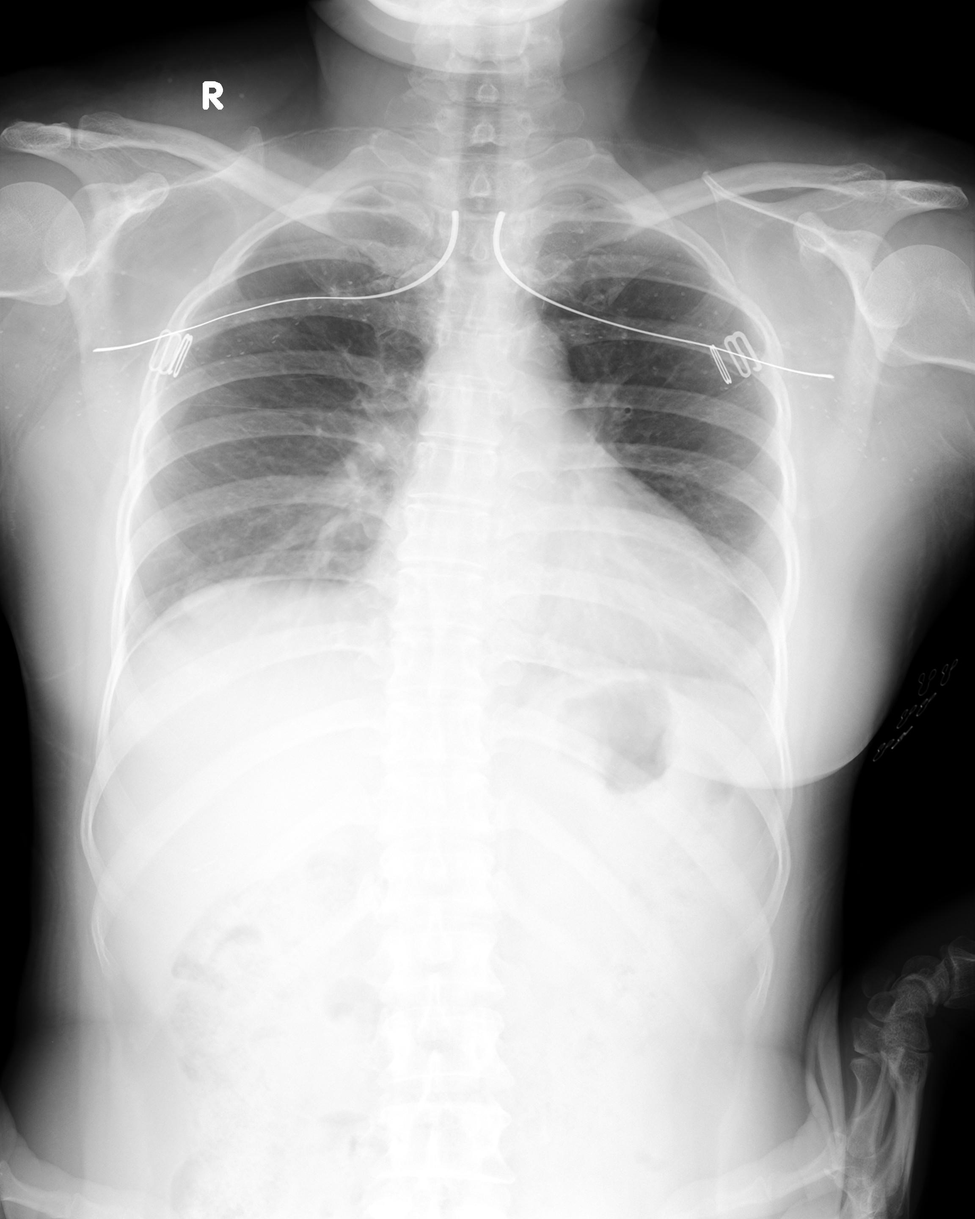Cardiomegaly: (364, 488, 735, 628)
